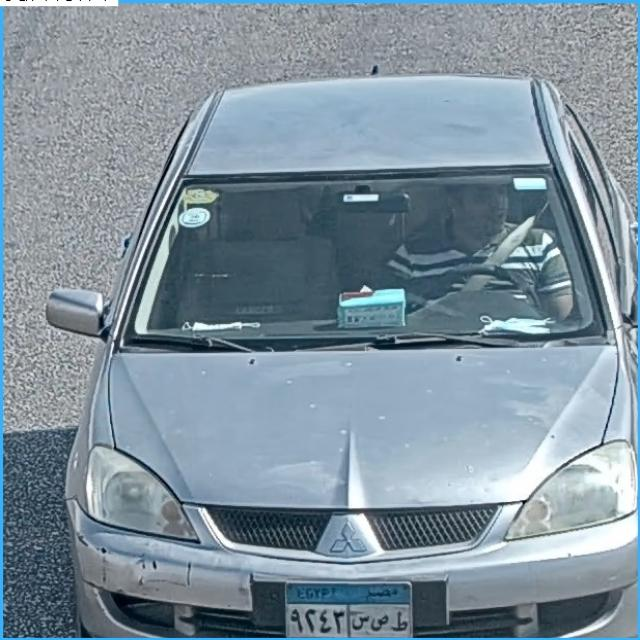windshield: (128, 175, 591, 334)
